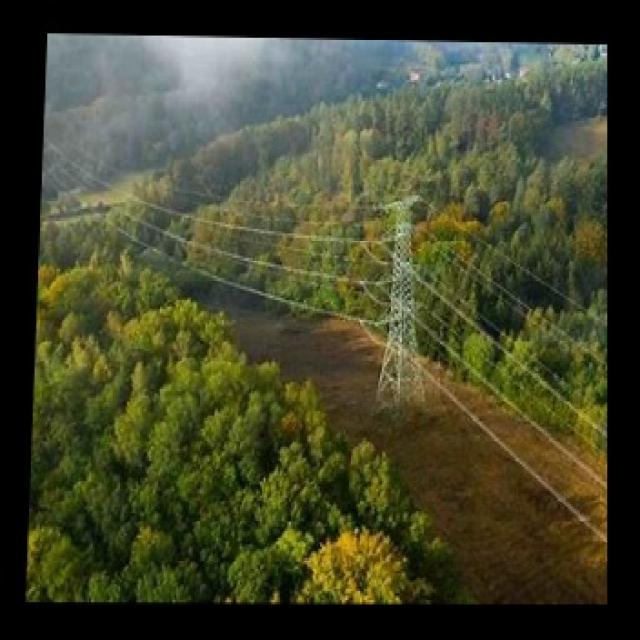utility poles: (364, 186, 444, 417)
